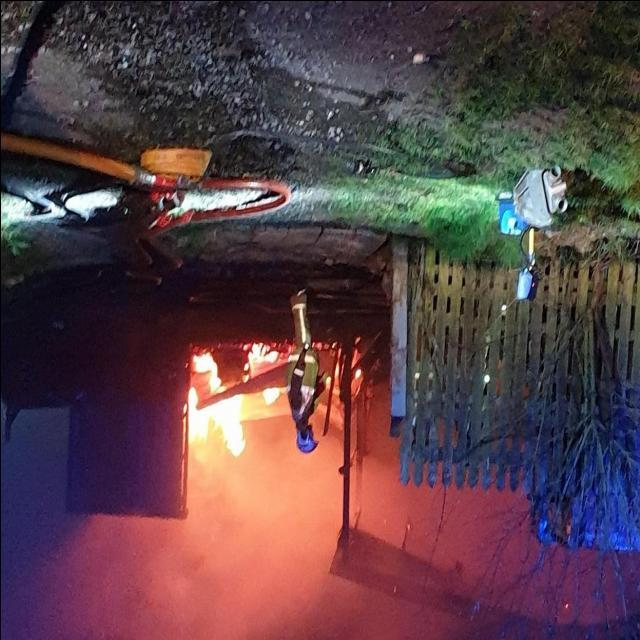Fire: (181, 346, 244, 458), (244, 340, 278, 370), (261, 384, 287, 404)
